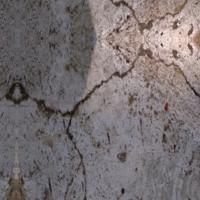crack: (30, 29, 197, 199)
